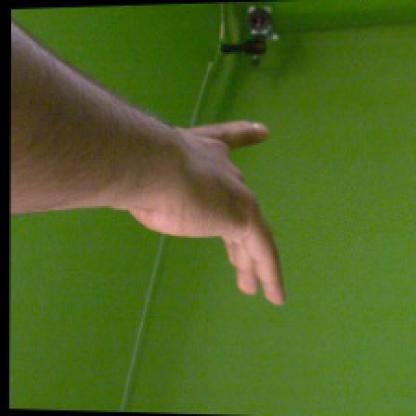Hand: (123, 119, 286, 308)
